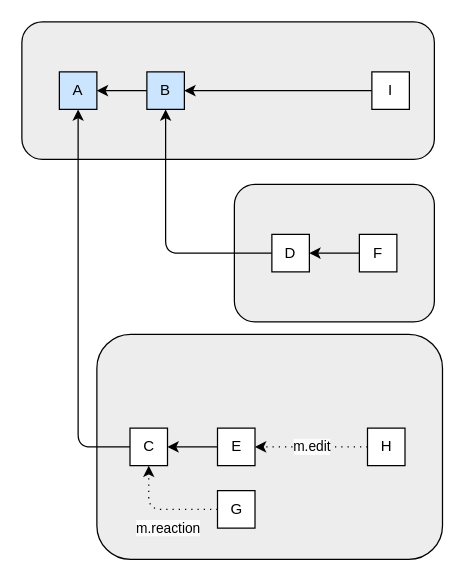
Some shapes in this 465 by 581 pixel diagram are drawn without their labels. The shapes that lost their labels are listed below. From the top down, each one's box as (x1, y1, x2, y2) in pixels, then its label:
(21, 21, 434, 159): Main timeline
(233, 183, 434, 322): Thread B timeline
(96, 333, 442, 559): Thread A timeline
